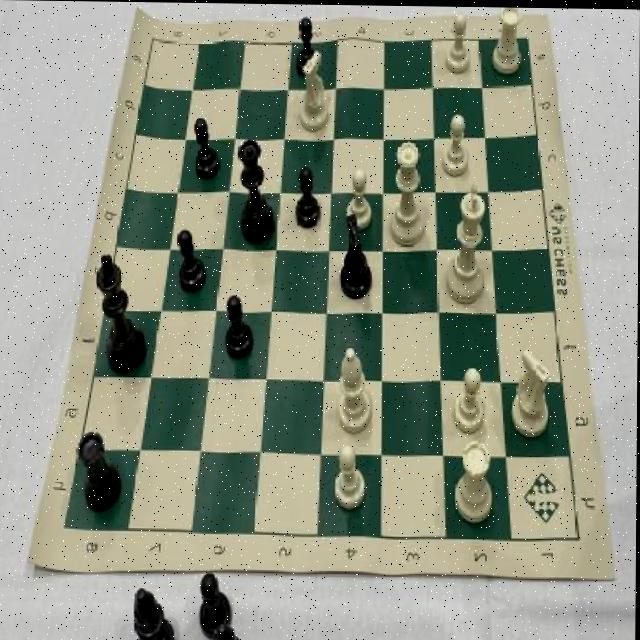black-bishop: (95, 246, 154, 378)
black-king: (338, 212, 377, 301)
black-knight: (219, 289, 255, 362), (177, 224, 211, 298), (190, 115, 227, 181), (292, 164, 324, 232), (291, 12, 321, 77)
black-pawn: (236, 134, 278, 247)
black-queen: (77, 426, 127, 514)
black-rook: (336, 339, 380, 434)
white-bishop: (441, 178, 491, 304)
white-king: (511, 343, 560, 438), (296, 48, 338, 132)
white-knight: (333, 438, 371, 514), (451, 364, 489, 436), (341, 166, 378, 234), (443, 5, 477, 76), (441, 110, 472, 183)
white-pawn: (386, 137, 428, 246)
white-queen: (452, 438, 497, 527), (490, 6, 529, 75)
